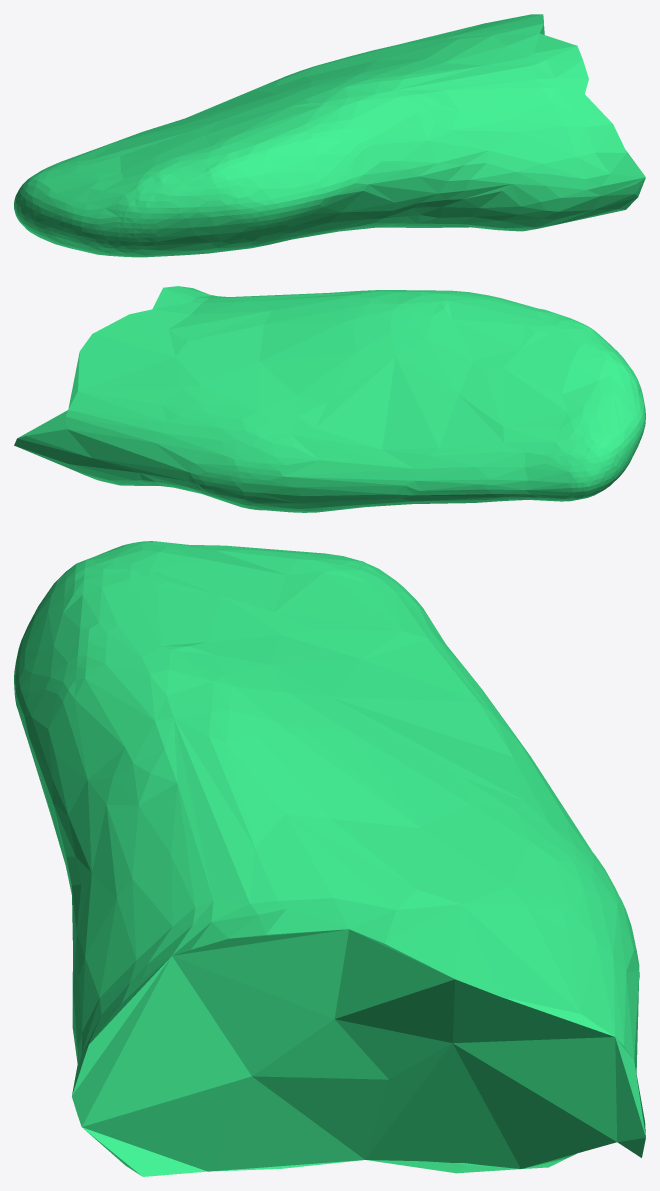
The model's file is Right_thalamus1.obj.
The picture shows the model from 3 angles, top to bottom: view 1: azimuth 30°, elevation 25°; view 2: azimuth 150°, elevation 25°; view 3: azimuth 270°, elevation 25°; orthographic projection. The views are drawn at different scales.
Visible parts, largest first — view 1: obj0; view 2: obj0; view 3: obj0.
Part boxes in pixels (x1,y1,x2,y2): obj0: (14,14,645,257); obj0: (14,286,645,512); obj0: (14,541,645,1176).
Size of the model in its own units: 6.27 by 1.89 by 3.5.
1 material, 1 textured.
